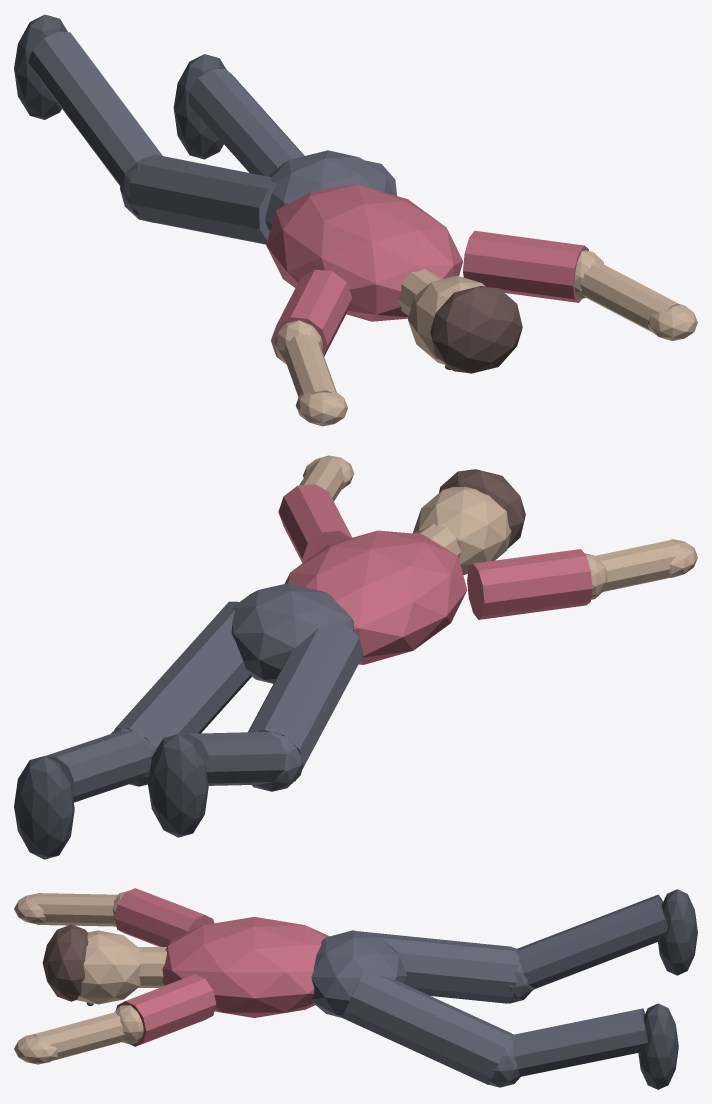
3 views of the same model, one above another, from view 1: azimuth 30°, elevation 25°; view 2: azimuth 150°, elevation 25°; view 3: azimuth 270°, elevation 25° (orthographic). The views are drawn at different scales.
Visible parts, largest first — view 1: world; view 2: world; view 3: world.
Boxes of the visible parts, x1,y1,x2,y2 form: world: (14, 14, 697, 426); world: (14, 455, 697, 859); world: (14, 888, 697, 1089).
Size of the model in its own units: 1.17 by 0.4905 by 2.15.
